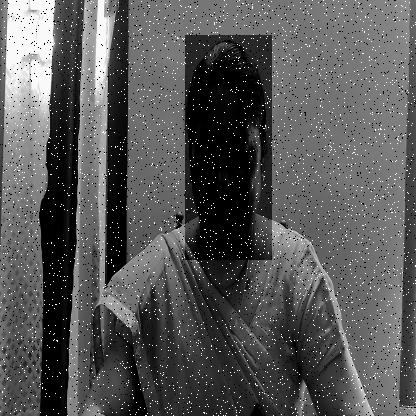Normal: (185, 35, 272, 260)
